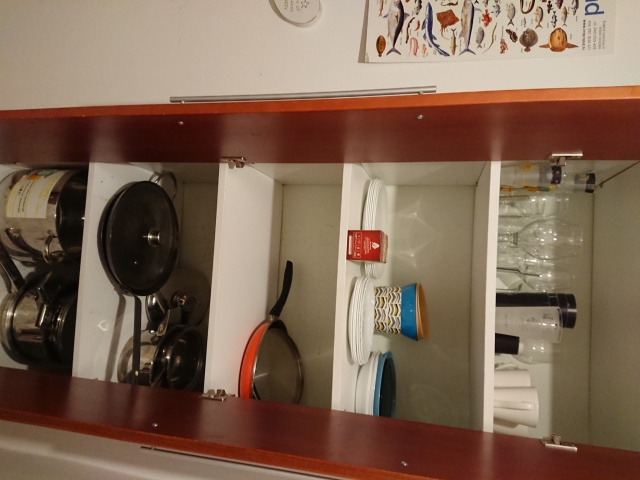Franck Apple Cinnamon Tea 60g: (344, 228, 390, 266)
